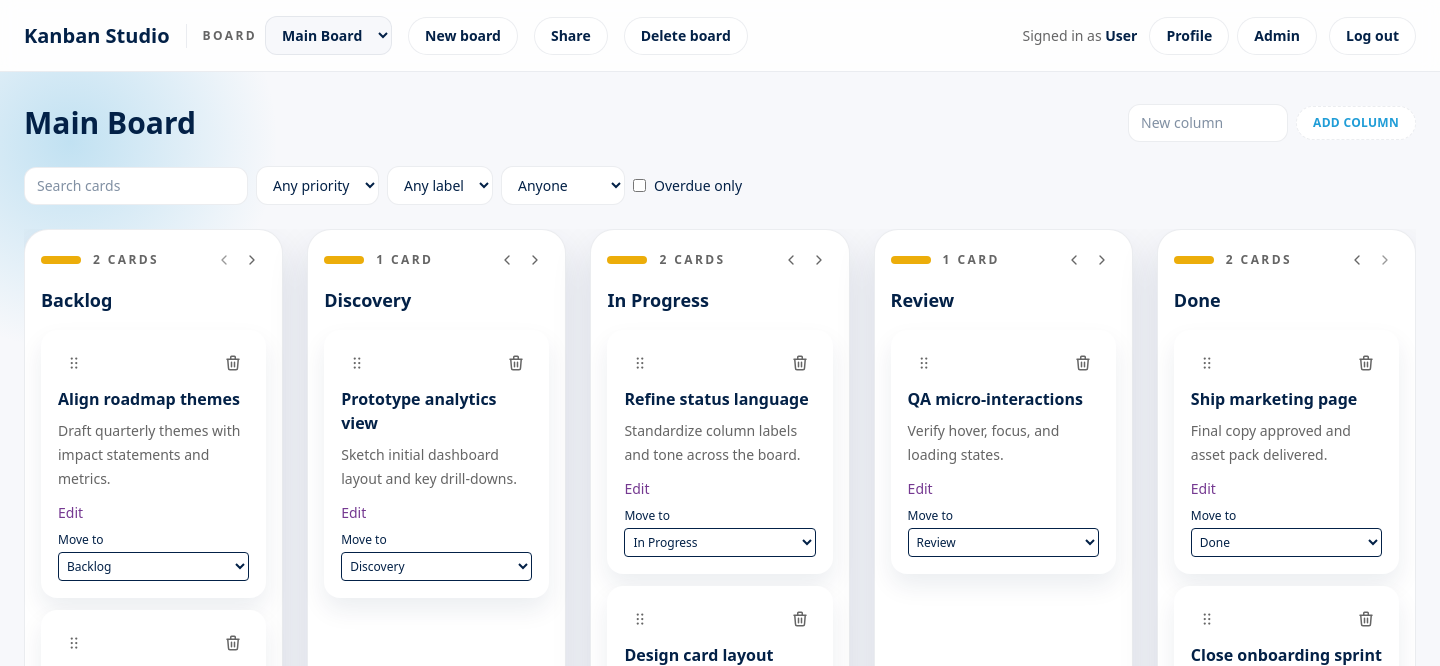
Test case: reports a failed board creation
Expected: the field named "Board name" is shown, left=24, top=105, right=1116, bottom=141
Click the button "New board".
click(463, 36)  # box left=408, top=16, right=518, bottom=54
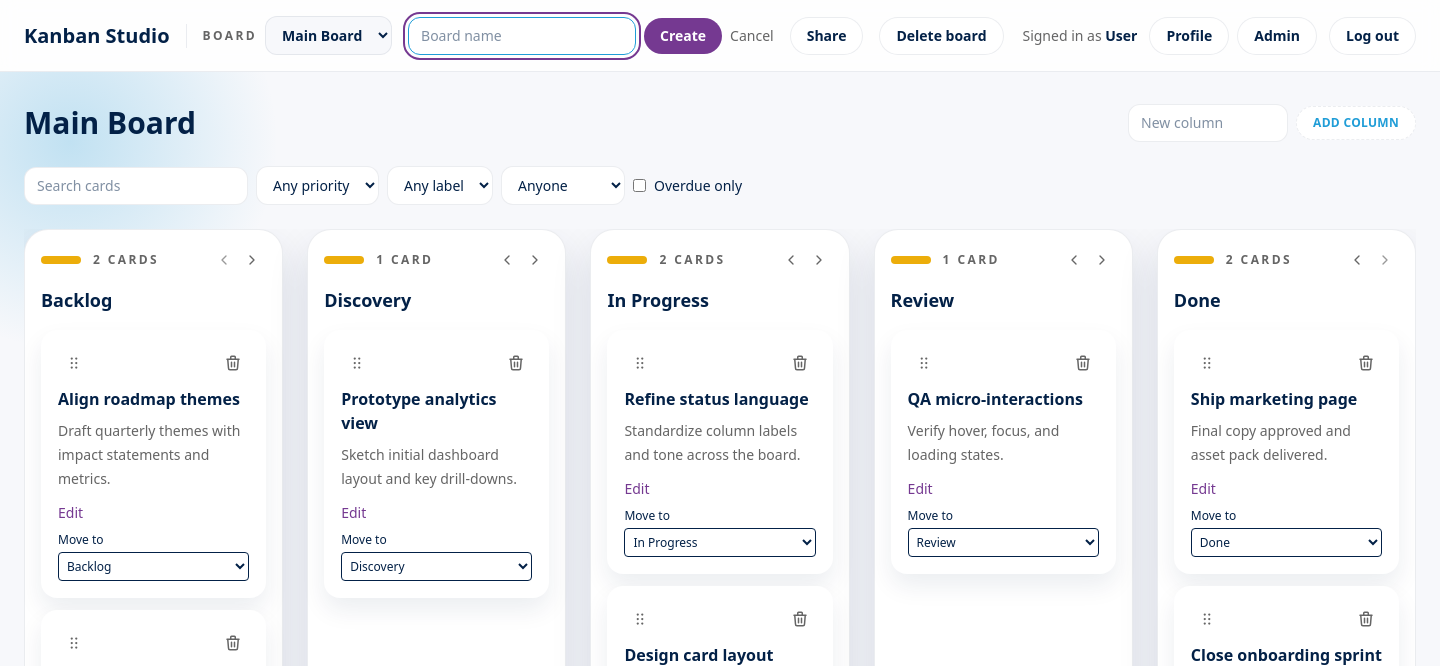
Type "Bad" into the field named "New board name".
click(522, 36); type("Bad")  # box left=408, top=16, right=636, bottom=54
Then press Enter
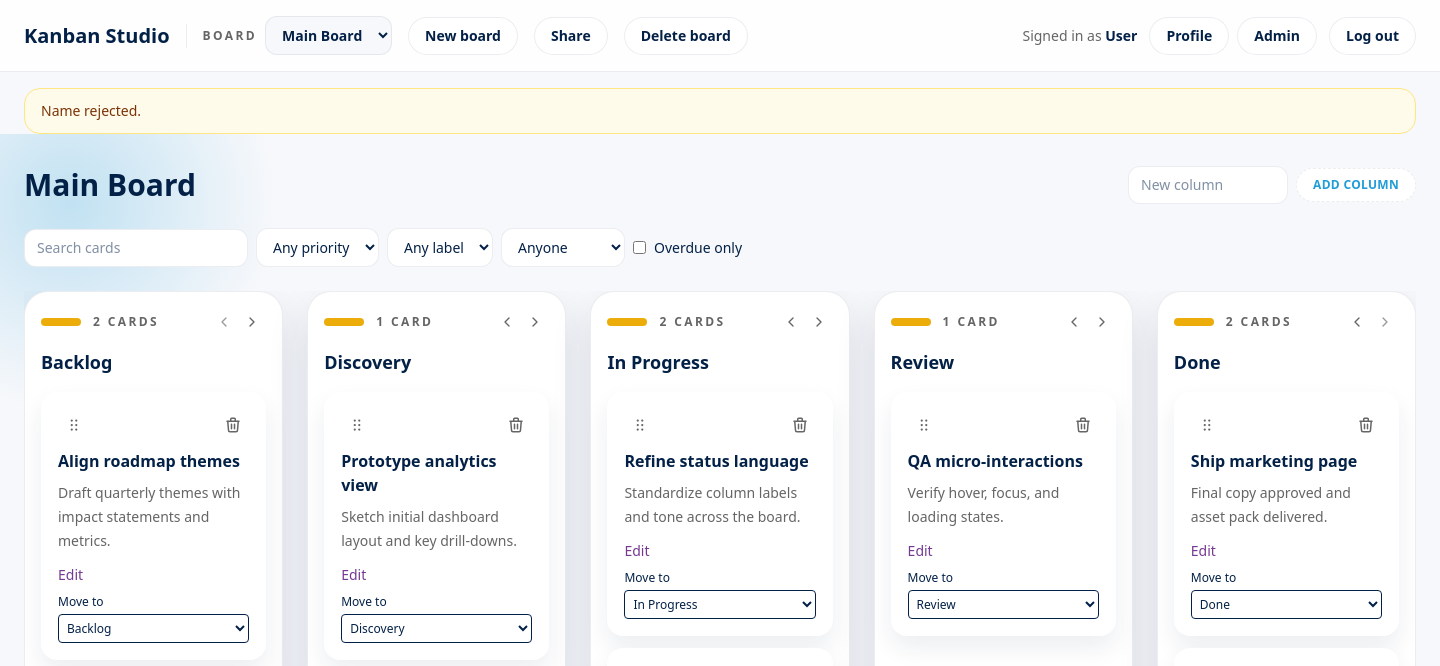
Expected: the text "Name rejected." is shown, left=24, top=88, right=1416, bottom=134
